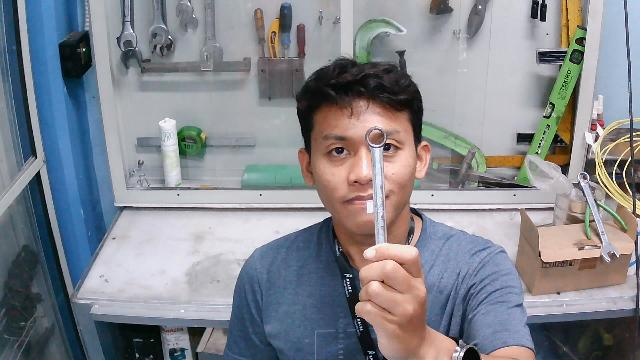kunci_pass_13: (355, 125, 425, 293)
